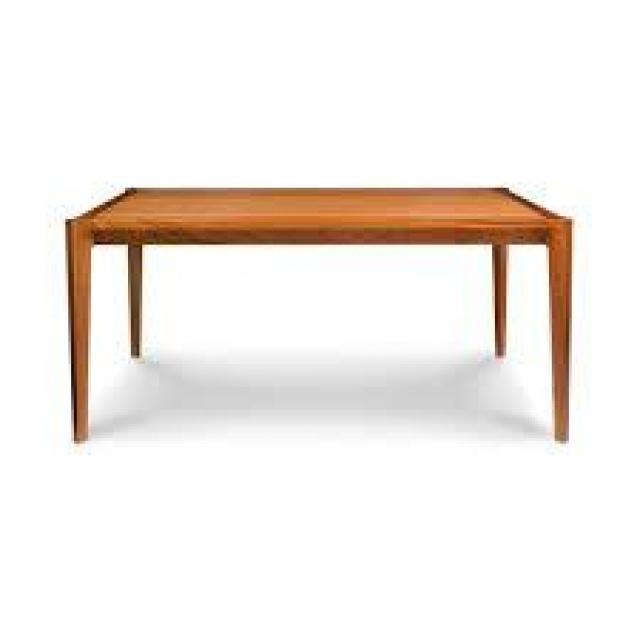table: (36, 115, 602, 479)
